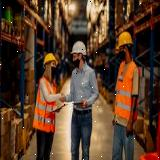Helmet: (114, 31, 134, 51), (69, 41, 87, 57), (43, 52, 58, 70)
Vest: (114, 59, 140, 122), (32, 76, 57, 134)
